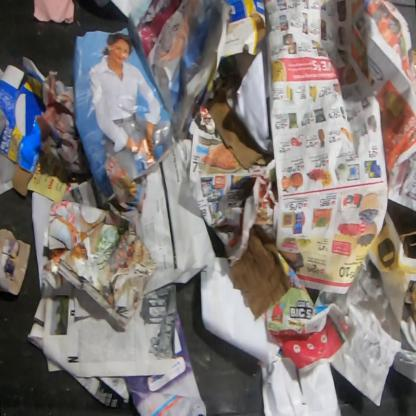cardboard: (0, 55, 47, 196), (221, 0, 269, 59)
